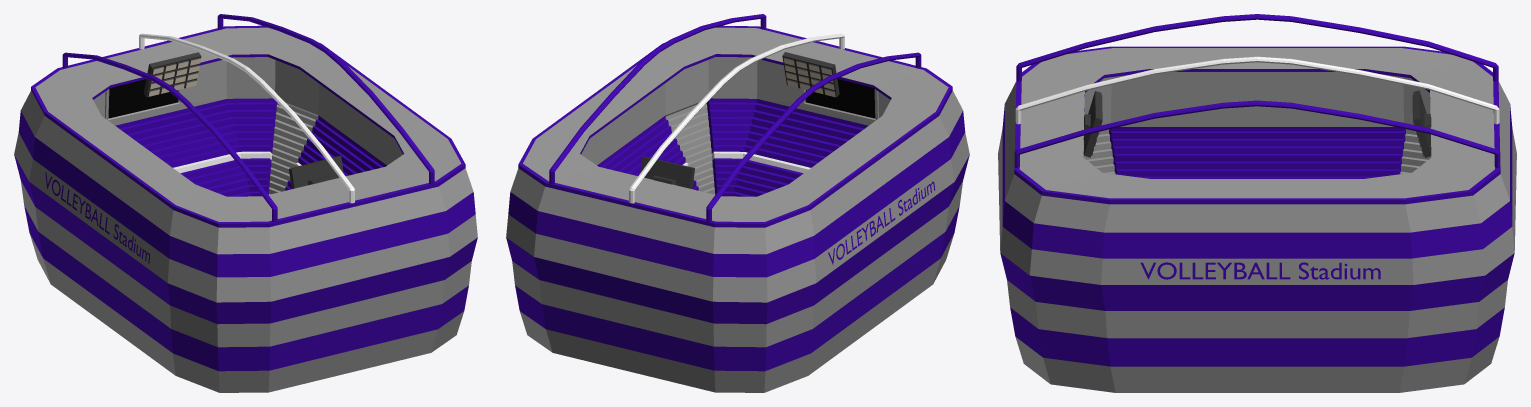
3 views of the same model, side by side, from view 1: azimuth 30°, elevation 25°; view 2: azimuth 150°, elevation 25°; view 3: azimuth 270°, elevation 25° (orthographic). The views are drawn at different scales.
Parts seen in each view (by area): view 1: Volleyball Stadium; view 2: Volleyball Stadium; view 3: Volleyball Stadium.
Part boxes in pixels (x1=…): Volleyball Stadium: x1=14, y1=14, x2=477, y2=392; Volleyball Stadium: x1=506, y1=14, x2=969, y2=392; Volleyball Stadium: x1=998, y1=14, x2=1516, y2=392.
Size of the model in its own units: 127 by 94.06 by 169.
2 materials, 1 textured.
